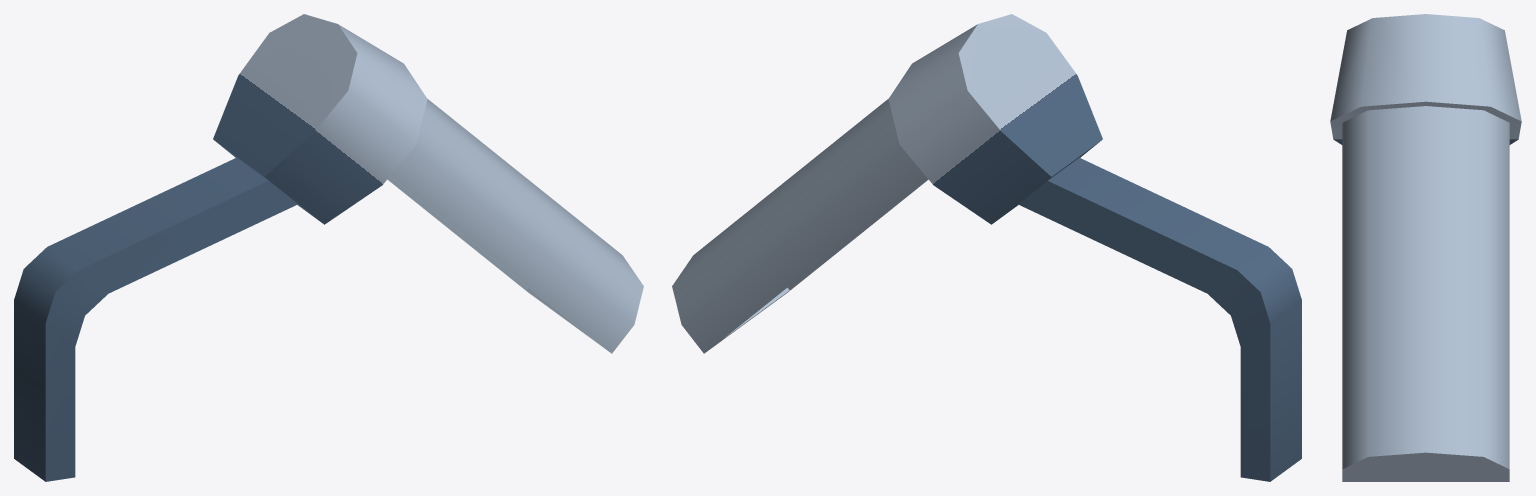
The model's file is Cartel_Faro.fbx.
3 renders of one model, left to right at view 1: azimuth 30°, elevation 25°; view 2: azimuth 150°, elevation 25°; view 3: azimuth 270°, elevation 25°, orthographic.
Parts seen in each view (by area): view 1: Cartel_Faro; view 2: Cartel_Faro; view 3: Cartel_Faro.
Part boxes in pixels (bbox=[...]): Cartel_Faro: bbox=[14, 14, 643, 481]; Cartel_Faro: bbox=[672, 14, 1301, 481]; Cartel_Faro: bbox=[1330, 14, 1521, 481].
Size of the model in its own units: 587 by 351 by 165.
